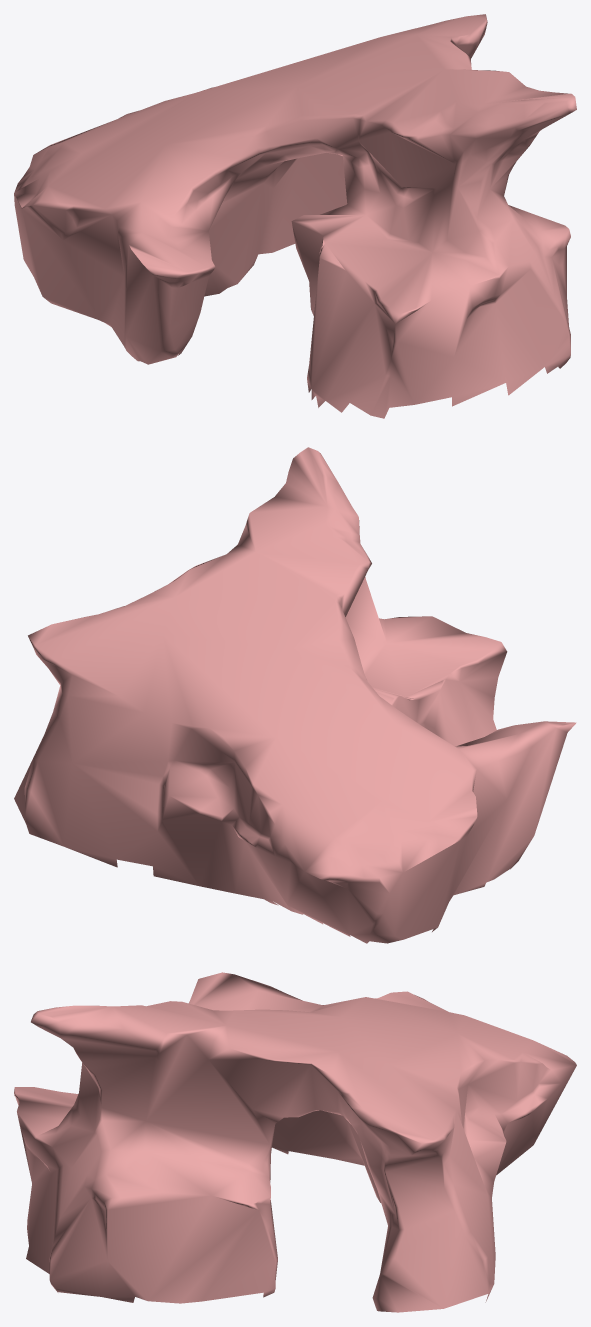
The model's file is collider_cave1_level1.fbx.
The picture shows the model from 3 angles, top to bottom: view 1: azimuth 30°, elevation 25°; view 2: azimuth 150°, elevation 25°; view 3: azimuth 270°, elevation 25°; orthographic projection. The views are drawn at different scales.
Parts seen in each view (by area): view 1: collider_cave1_1; view 2: collider_cave1_1; view 3: collider_cave1_1.
Boxes of the visible parts, x1,y1,x2,y2 form: collider_cave1_1: [14, 14, 576, 418]; collider_cave1_1: [14, 447, 576, 943]; collider_cave1_1: [14, 972, 576, 1312].
Size of the model in its own units: 11788 by 6831 by 12221.
